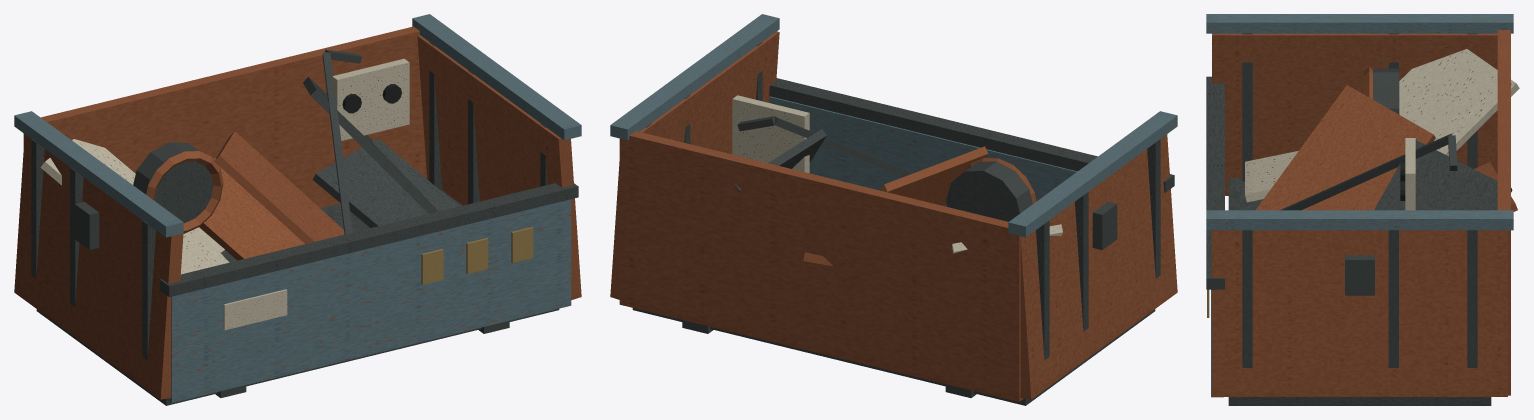
The model's file is CompactMixedSkip.fbx.
3 renders of one model, left to right at view 1: azimuth 30°, elevation 25°; view 2: azimuth 150°, elevation 25°; view 3: azimuth 270°, elevation 25°, orthographic.
Parts seen in each view (by area): view 1: CompactMixedSkip; view 2: CompactMixedSkip; view 3: CompactMixedSkip.
Part boxes in pixels (<box>): CompactMixedSkip: <box>14,14,581,405</box>; CompactMixedSkip: <box>610,14,1177,405</box>; CompactMixedSkip: <box>1206,14,1519,405</box>.
Bounding box in the file's own units: 269 × 126 × 167.
1 material, 1 textured.
